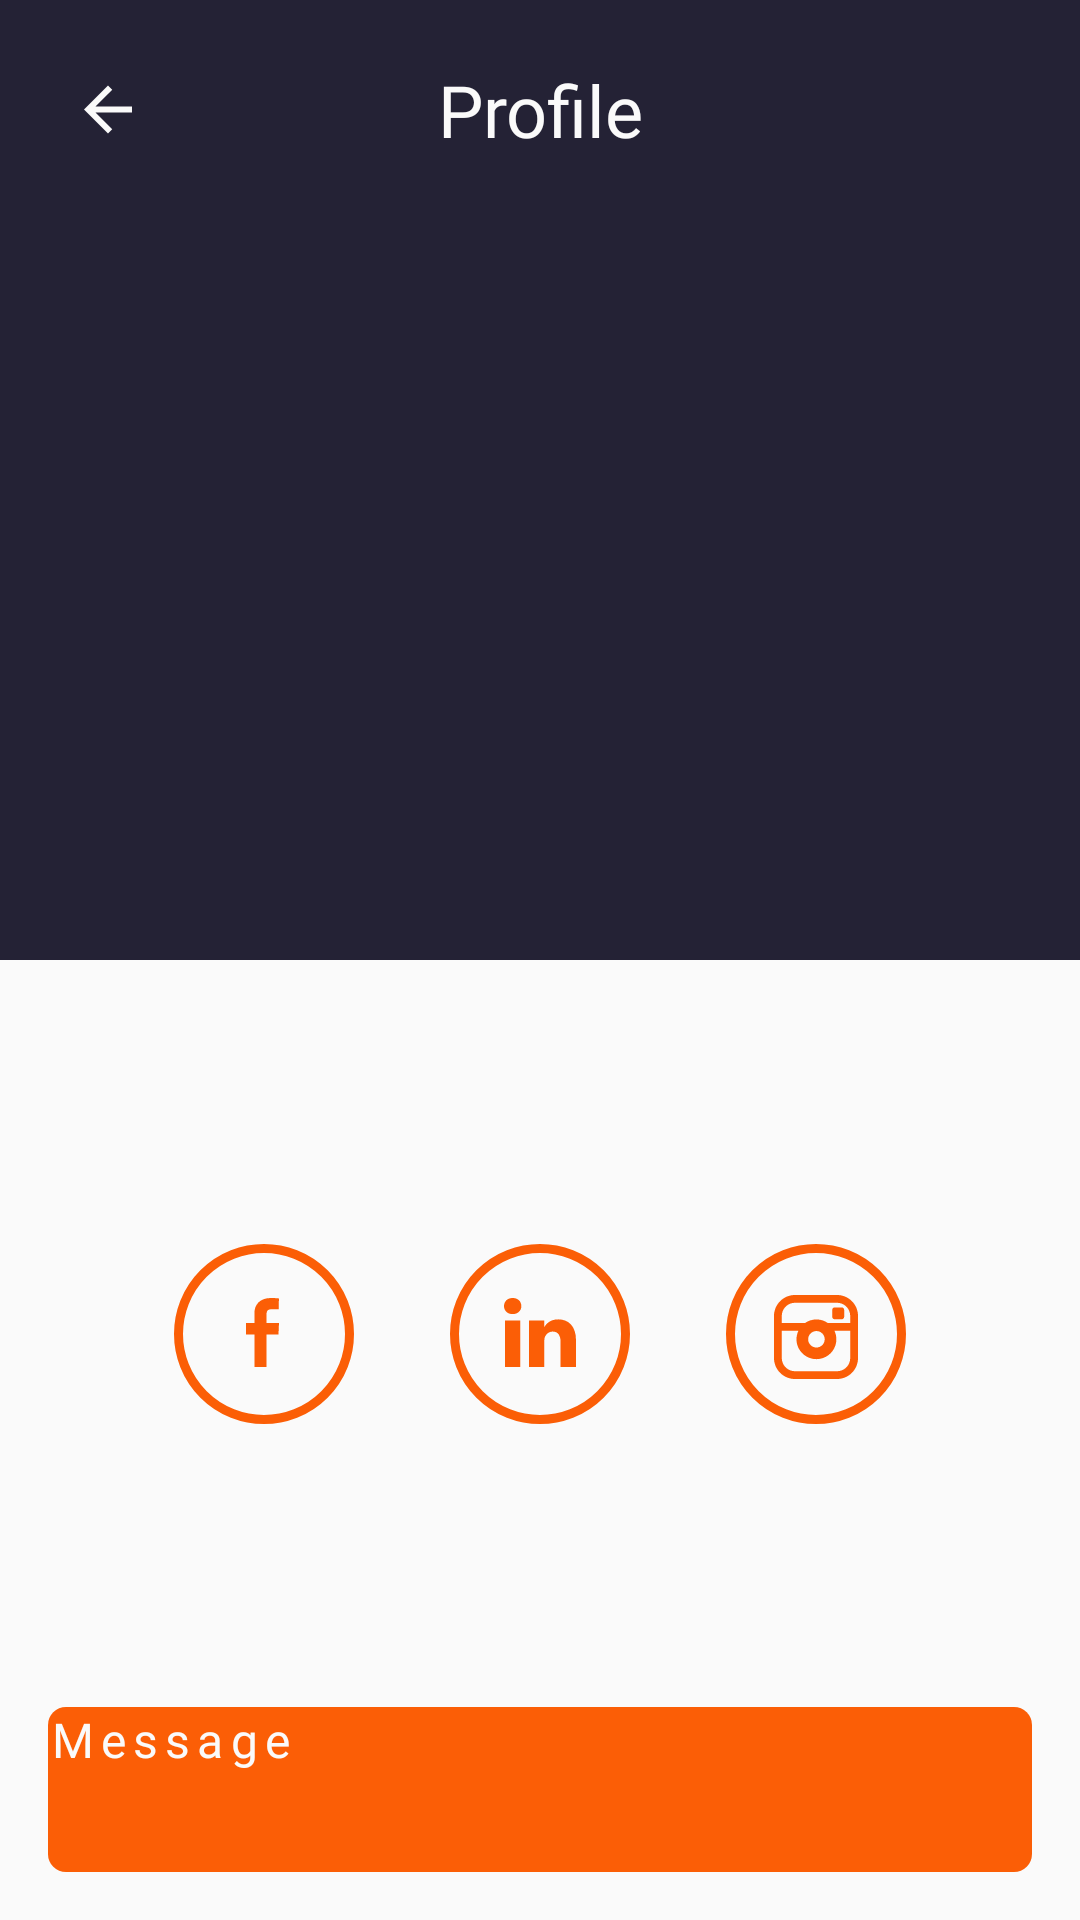

Where to tap for icons on this 1080 x 1920 app screen, as [x,y]:
arrow back: [108,109]
